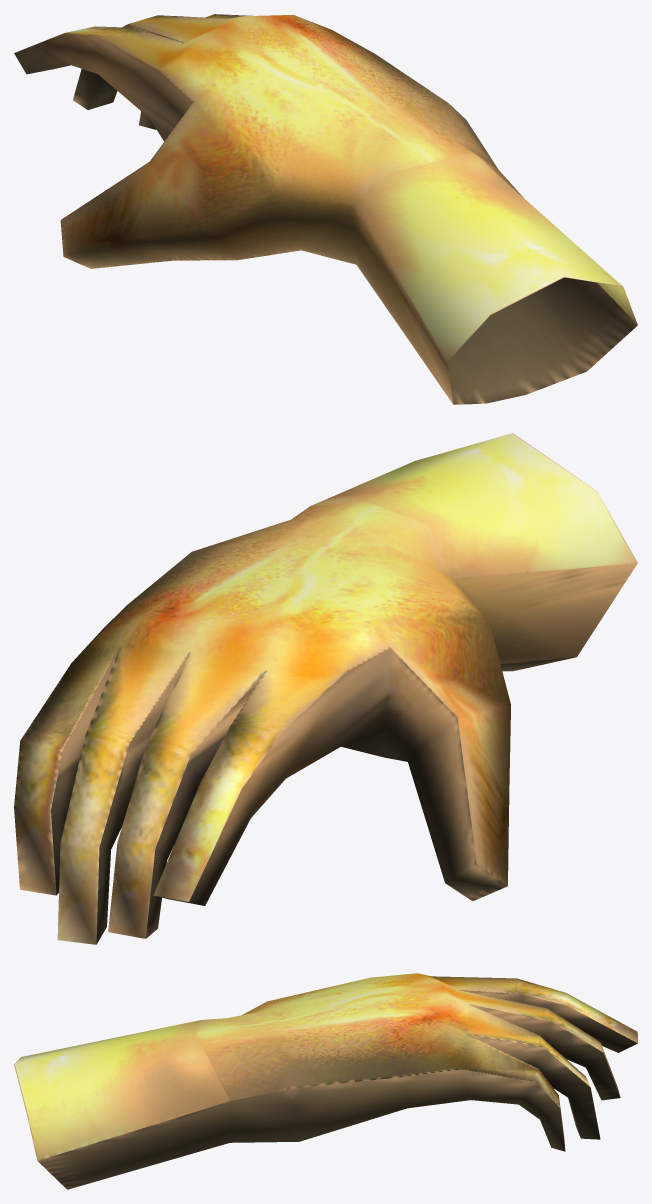
File: hand.fbx
The picture shows the model from 3 angles, top to bottom: view 1: azimuth 30°, elevation 25°; view 2: azimuth 150°, elevation 25°; view 3: azimuth 270°, elevation 25°; orthographic projection. The views are drawn at different scales.
Visible parts, largest first — view 1: objsgn00; view 2: objsgn00; view 3: objsgn00.
Boxes of the visible parts, left/top/right/bottom form: objsgn00: left=14, top=14, right=637, bottom=404; objsgn00: left=14, top=433, right=637, bottom=944; objsgn00: left=14, top=973, right=637, bottom=1189.
Size of the model in its own units: 5.56 by 11.43 by 3.38.
1 material, 1 textured.
